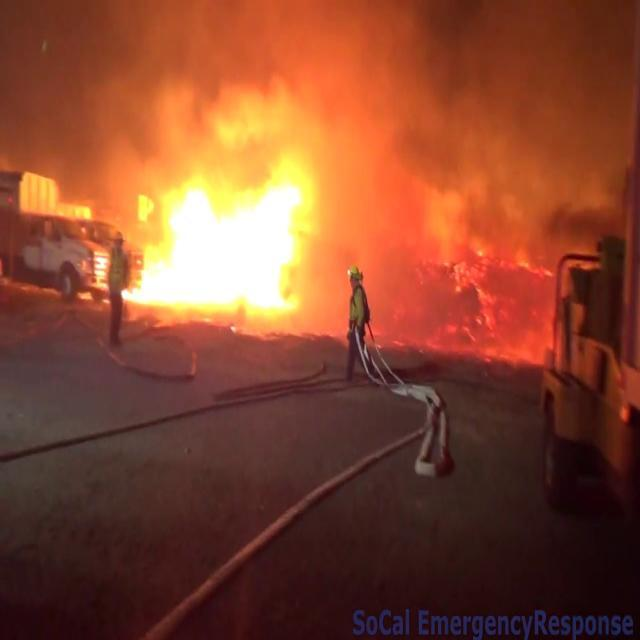Fire: (118, 161, 318, 326)
Smoke: (282, 0, 640, 228)
